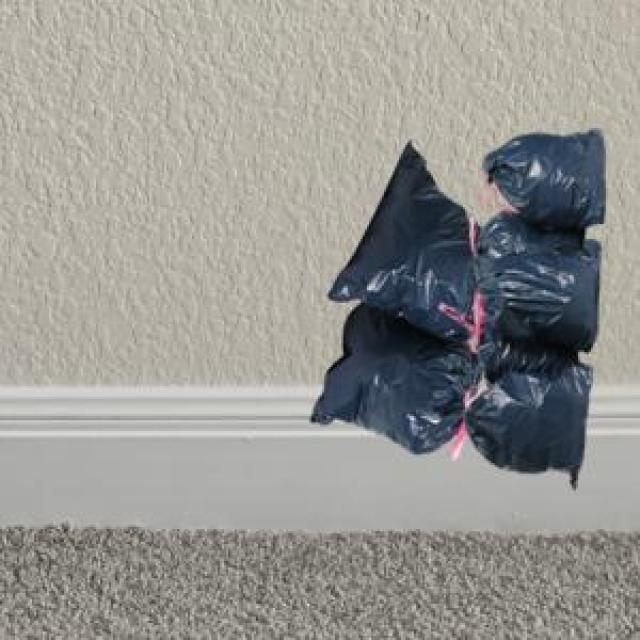Vinyl: (311, 130, 604, 486)
